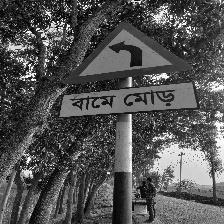Left-Turn: (59, 20, 200, 118)
